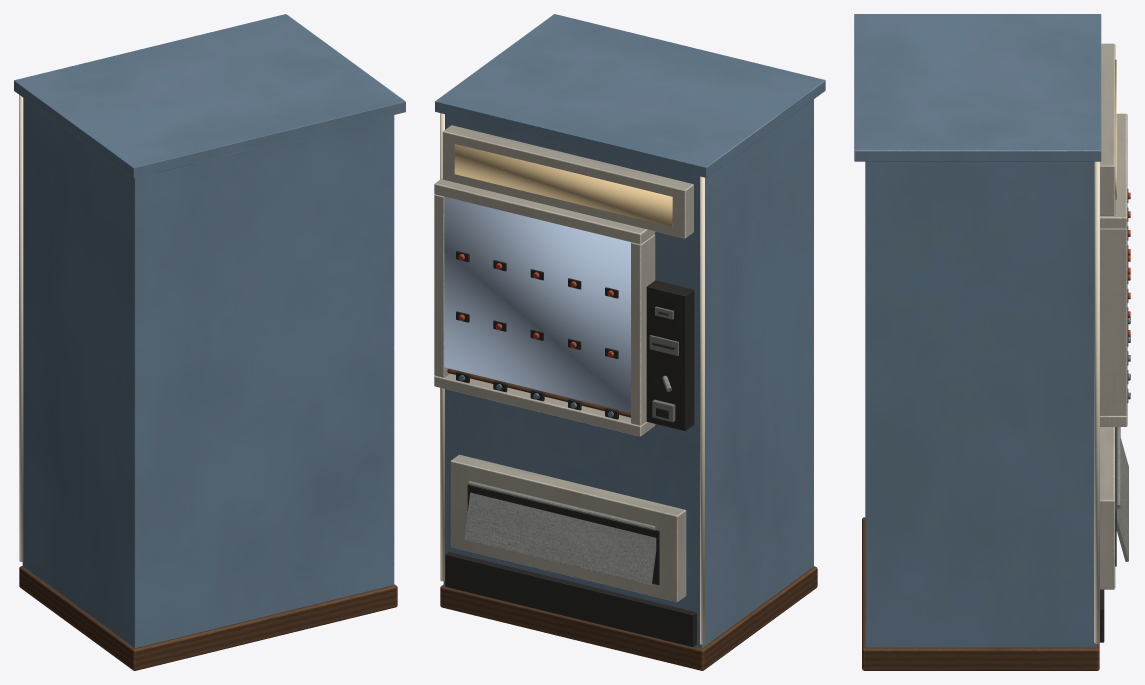
File: vending_blue.glb
3 views of the same model, side by side, from view 1: azimuth 30°, elevation 25°; view 2: azimuth 150°, elevation 25°; view 3: azimuth 270°, elevation 25° (orthographic). The views are drawn at different scales.
Parts seen in each view (by area): view 1: vending_blue_felt_sky, vending_blue_wood_dark, vending_blue_yarn_cream; view 2: vending_blue_felt_sky, vending_blue_felt_ivory, vending_blue_glass, vending_blue_felt_charcoal, vending_blue_felt_tin, vending_blue_wood_dark, vending_blue_paper, vending_blue_yarn_cream; view 3: vending_blue_felt_sky, vending_blue_felt_ivory, vending_blue_wood_dark, vending_blue_yarn_cream, vending_blue_felt_tin, vending_blue_felt_charcoal.
Part boxes in pixels (<box>): vending_blue_felt_sky: <box>14,14,405,648</box>; vending_blue_wood_dark: <box>19,566,397,670</box>; vending_blue_yarn_cream: <box>19,95,23,561</box>; vending_blue_felt_sky: <box>435,14,825,648</box>; vending_blue_felt_ivory: <box>434,125,693,602</box>; vending_blue_glass: <box>444,196,630,412</box>; vending_blue_felt_charcoal: <box>445,251,696,647</box>; vending_blue_felt_tin: <box>464,306,678,585</box>; vending_blue_wood_dark: <box>440,368,817,670</box>; vending_blue_paper: <box>454,144,672,226</box>; vending_blue_yarn_cream: <box>440,113,704,644</box>; vending_blue_felt_sky: <box>854,14,1130,647</box>; vending_blue_felt_ivory: <box>1100,43,1127,589</box>; vending_blue_wood_dark: <box>862,517,1099,670</box>; vending_blue_yarn_cream: <box>1094,161,1099,643</box>; vending_blue_felt_tin: <box>1116,427,1128,561</box>; vending_blue_felt_charcoal: <box>1100,189,1128,642</box>.
Bounding box in the file's own units: 2.1 × 3.74 × 1.79.
Materials: 15 (12 with a texture image).
